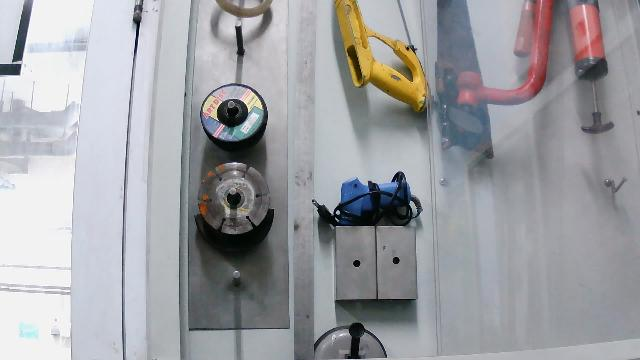solder_electrical: (307, 172, 425, 228)
